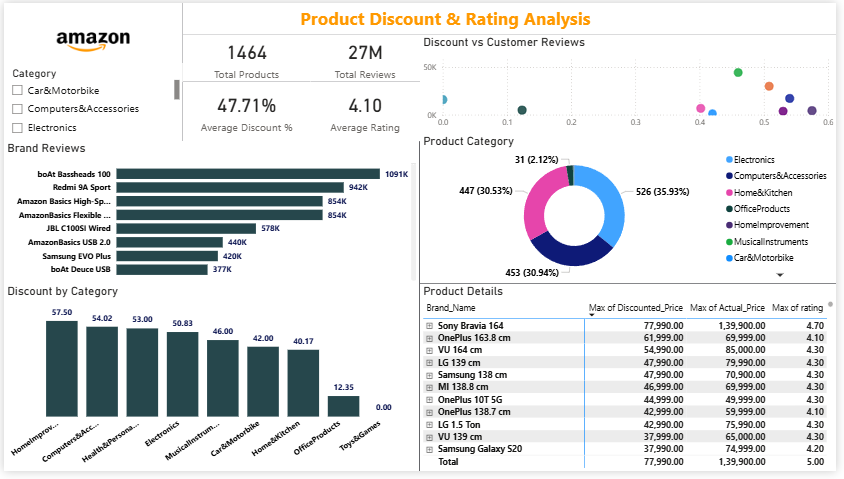

What the dashboard file says about the page in this screenshot:
{"tool":"powerbi","page":{"name":"Dashboard Overview","canvas":[1280,720],"ordinal":0},"visuals":[{"type":"textbox","box":[275,0,1005.1,49],"z":0},{"type":"card","fields":{"Values":["amazon.Total Products"]},"box":[275.4,49.2,195.4,75.4],"z":1000},{"type":"card","fields":{"Values":["amazon.Average Rating"]},"box":[470.8,124.6,170.8,87.7],"z":2000},{"type":"card","fields":{"Values":["amazon.Average Discount %"]},"box":[275.4,124.6,195.4,87.7],"z":3000},{"type":"clusteredColumnChart","title":"Discount by Category","fields":{"Category":["amazon.Main_Category"],"Y":["amazon.Average Discount"]},"box":[0,432,639.4,288],"z":4000},{"type":"donutChart","title":"Product Category","fields":{"Category":["amazon.Main_Category"],"Y":["amazon.Total Products"]},"box":[639.4,201.6,640.8,230.4],"z":5000},{"type":"clusteredBarChart","title":"Brand Reviews","fields":{"Category":["amazon.Brand_Name"],"Y":["amazon.Total Reviews"]},"box":[0,211.7,639.4,220.3],"z":6000},{"type":"card","fields":{"Values":["amazon.Total Reviews"]},"box":[470.8,49.2,170.8,75.4],"z":7000},{"type":"pivotTable","title":"Product Details","fields":{"Values":["Max(amazon.Discounted_Price)","Max(amazon.Actual_Price)","Max(amazon.rating)"],"Rows":["amazon.Brand_Name","amazon.product_name"]},"box":[639.4,432,640.8,288],"z":8000},{"type":"scatterChart","title":"Discount vs Customer Reviews","fields":{"X":["Avg(amazon.Discount_Percentage)"],"Y":["Avg(amazon.rating_count)"],"Size":["Avg(amazon.rating)"],"Series":["amazon.Main_Category"]},"box":[639.4,49,640.8,152.6],"z":9000},{"type":"image","box":[0,0,275,121],"z":10000},{"type":"slicer","fields":{"Values":["amazon.Main_Category"]},"box":[0,92.2,275,119.5],"z":11000}]}

Visuals, with their boxes in screenshot pixels (x1, y1, x2, y2), scaled from the page's 1280x720 canvas onto the 844x479 screenshot:
textbox: pyautogui.locateOnScreen(181, 0, 843, 33)
card - amazon.Total Products: pyautogui.locateOnScreen(182, 33, 310, 83)
card - amazon.Average Rating: pyautogui.locateOnScreen(310, 83, 423, 141)
card - amazon.Average Discount %: pyautogui.locateOnScreen(182, 83, 310, 141)
"Discount by Category" clusteredColumnChart: pyautogui.locateOnScreen(0, 287, 422, 478)
"Product Category" donutChart: pyautogui.locateOnScreen(422, 134, 843, 287)
"Brand Reviews" clusteredBarChart: pyautogui.locateOnScreen(0, 141, 422, 287)
card - amazon.Total Reviews: pyautogui.locateOnScreen(310, 33, 423, 83)
"Product Details" pivotTable: pyautogui.locateOnScreen(422, 287, 843, 478)
"Discount vs Customer Reviews" scatterChart: pyautogui.locateOnScreen(422, 33, 843, 134)
image: pyautogui.locateOnScreen(0, 0, 181, 80)
slicer - amazon.Main_Category: pyautogui.locateOnScreen(0, 61, 181, 141)
